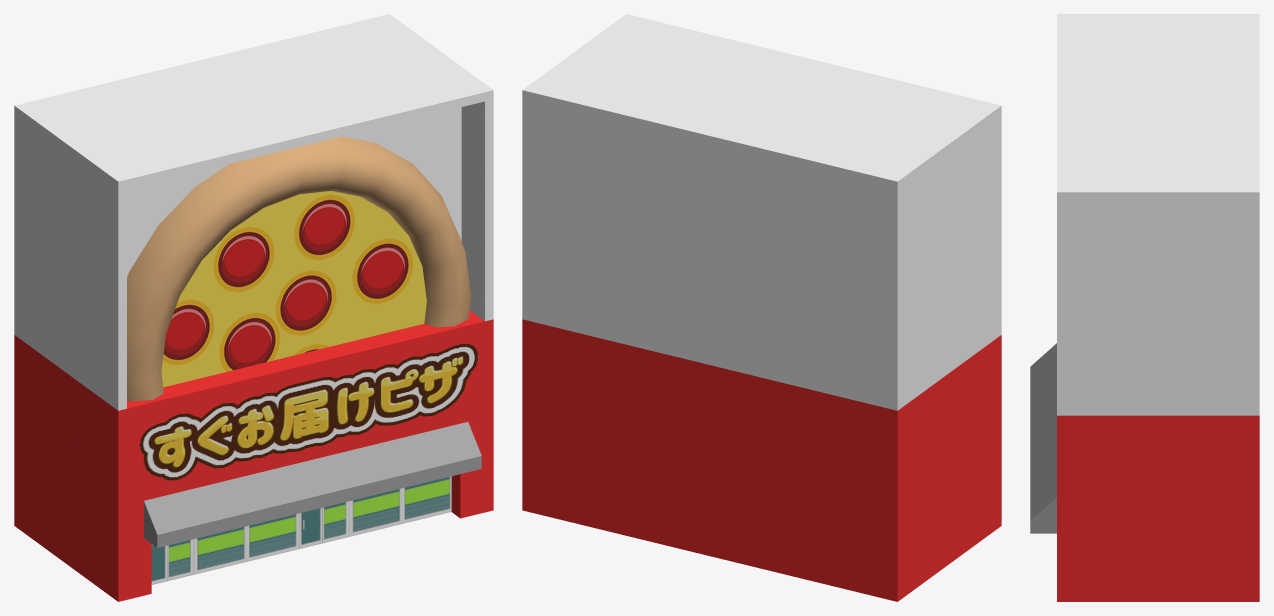
Rendered from Town_Bld_Pizzeria_A.FBX.
3 renders of one model, left to right at view 1: azimuth 30°, elevation 25°; view 2: azimuth 150°, elevation 25°; view 3: azimuth 270°, elevation 25°, orthographic. The views are drawn at different scales.
Visible parts, largest first — view 1: Town_Bld_Pizzeria_A; view 2: Town_Bld_Pizzeria_A; view 3: Town_Bld_Pizzeria_A.
Part boxes in pixels (x1,y1,x2,y2): Town_Bld_Pizzeria_A: [14, 14, 493, 601]; Town_Bld_Pizzeria_A: [522, 14, 1001, 601]; Town_Bld_Pizzeria_A: [1030, 14, 1259, 601].
Bounding box in the file's own units: 1094 × 1171 × 594.
